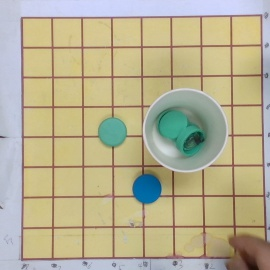blue: (133, 174, 161, 203)
cup_green: (144, 88, 229, 174)
green: (97, 115, 128, 148)
